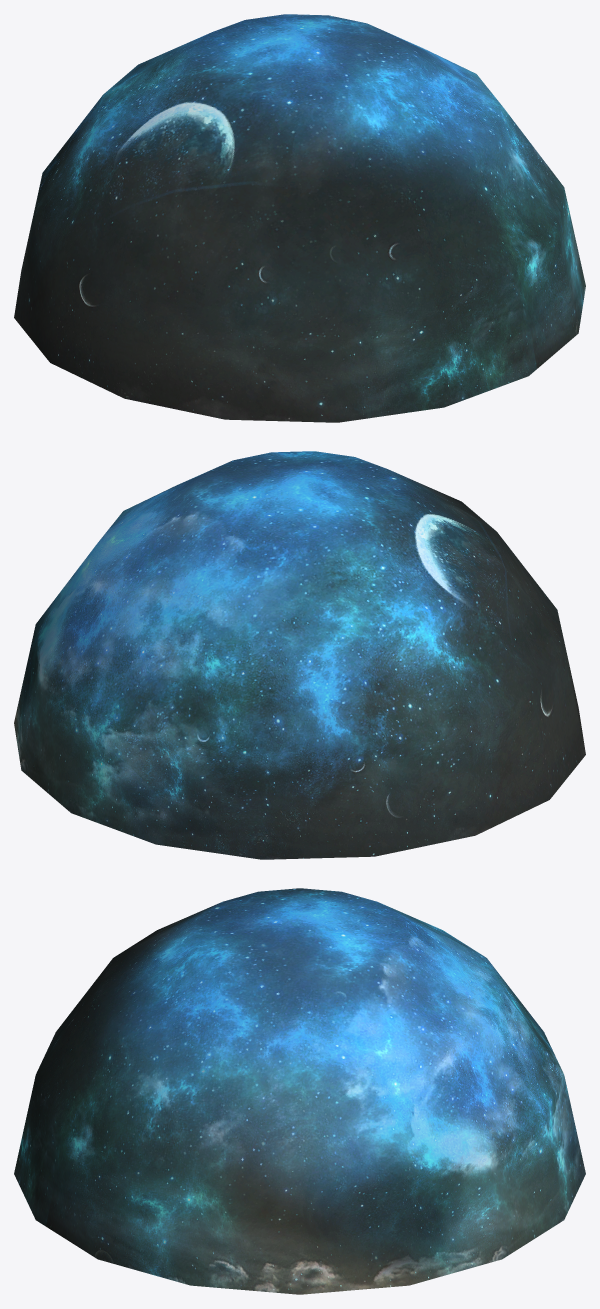
Rendered from Sky.fbx.
3 views of the same model, one above another, from view 1: azimuth 30°, elevation 25°; view 2: azimuth 150°, elevation 25°; view 3: azimuth 270°, elevation 25° (orthographic).
Parts seen in each view (by area): view 1: LV_AncientTower_Env_AstroSky_SM_KBE; view 2: LV_AncientTower_Env_AstroSky_SM_KBE; view 3: LV_AncientTower_Env_AstroSky_SM_KBE.
Boxes of the visible parts, x1,y1,x2,y2 form: LV_AncientTower_Env_AstroSky_SM_KBE: (14,14,585,422); LV_AncientTower_Env_AstroSky_SM_KBE: (14,451,585,859); LV_AncientTower_Env_AstroSky_SM_KBE: (14,888,585,1294).
Size of the model in its own units: 16.07 by 8.04 by 16.07.
